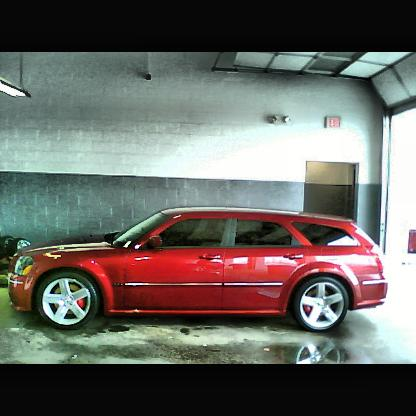Dodge Magnum Wagon 2008: (9, 207, 391, 335)
